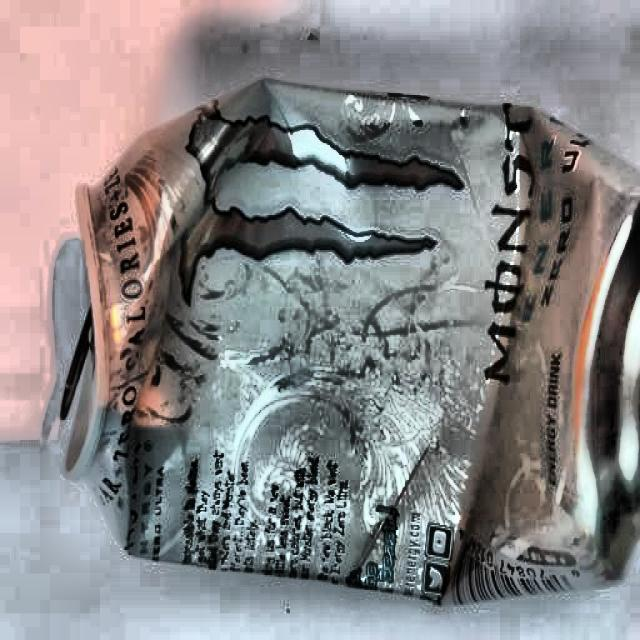metal: (58, 75, 640, 599)
